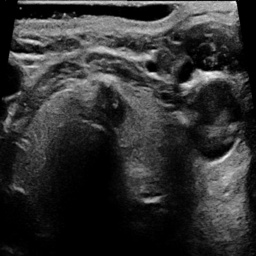mass: (90, 84, 125, 125)
